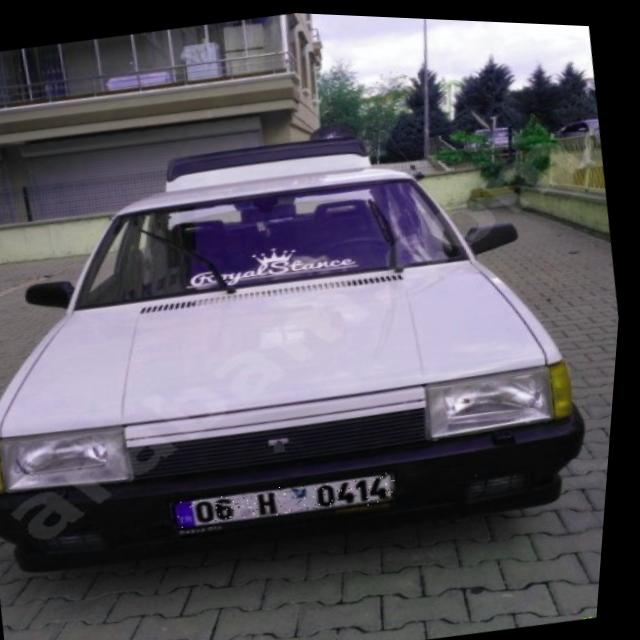license_plate: (176, 460, 406, 536)
